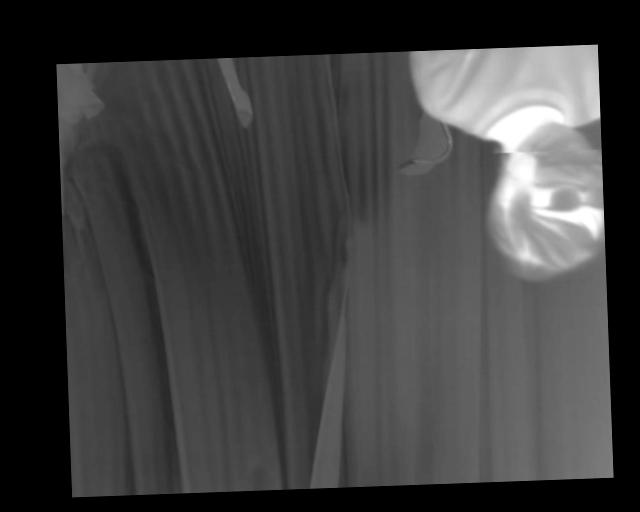face: (483, 120, 602, 280)
